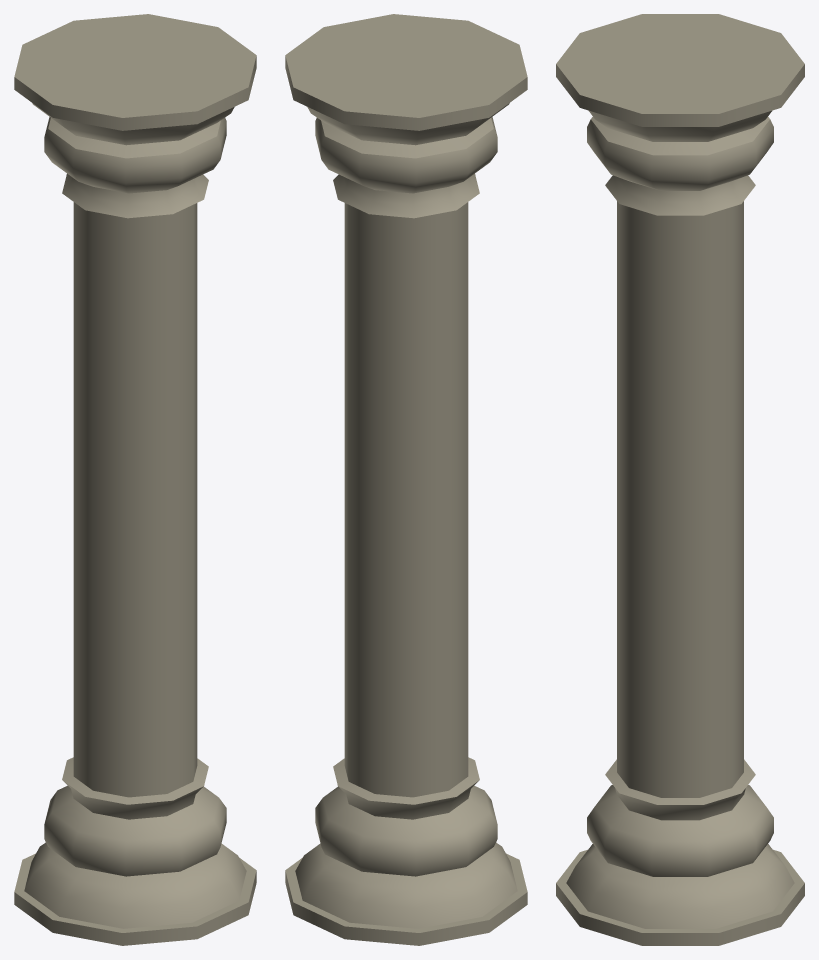
Rendered from architecture.column.home_column_round3_01.glb.
3 renders of one model, left to right at view 1: azimuth 30°, elevation 25°; view 2: azimuth 150°, elevation 25°; view 3: azimuth 270°, elevation 25°, orthographic.
Parts seen in each view (by area): view 1: Column_Round3_Cylinder.059; view 2: Column_Round3_Cylinder.059; view 3: Column_Round3_Cylinder.059.
Boxes of the visible parts, box(x1,y1,x2,y2) form: Column_Round3_Cylinder.059: box(14, 14, 256, 945); Column_Round3_Cylinder.059: box(285, 14, 527, 945); Column_Round3_Cylinder.059: box(556, 14, 804, 945).
Bounding box in the file's own units: 1.4 × 5.43 × 1.47.
